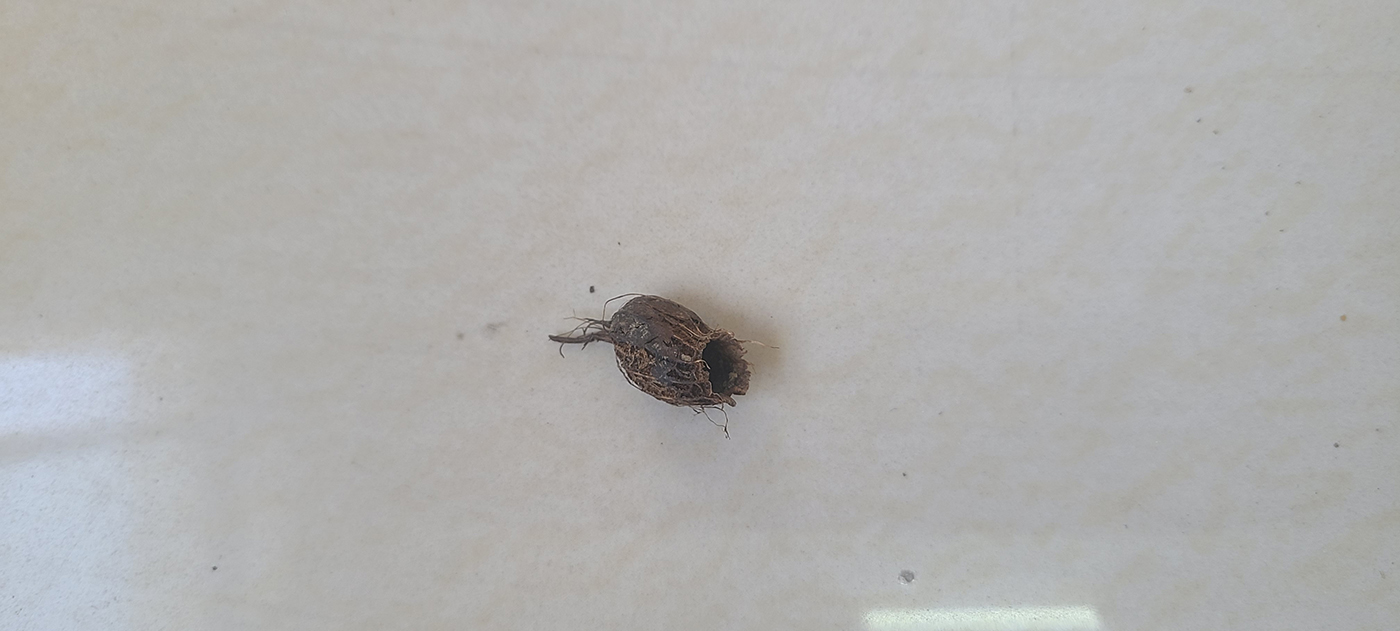l: (607, 290, 749, 412)
